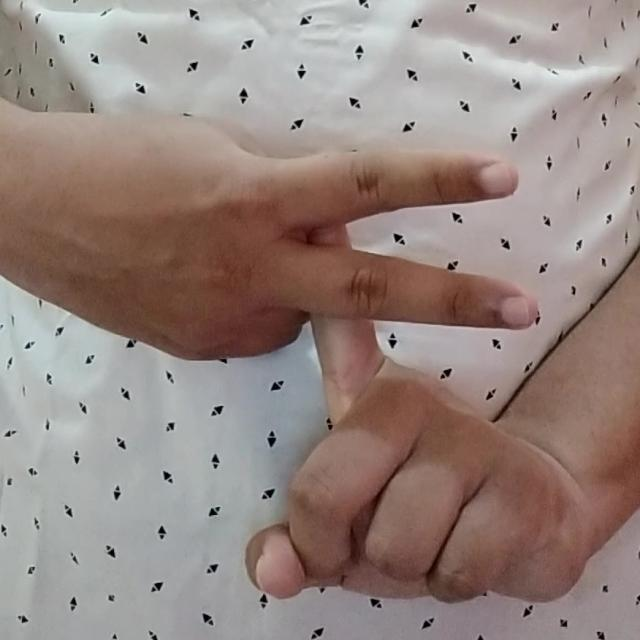F: (19, 85, 612, 618)
